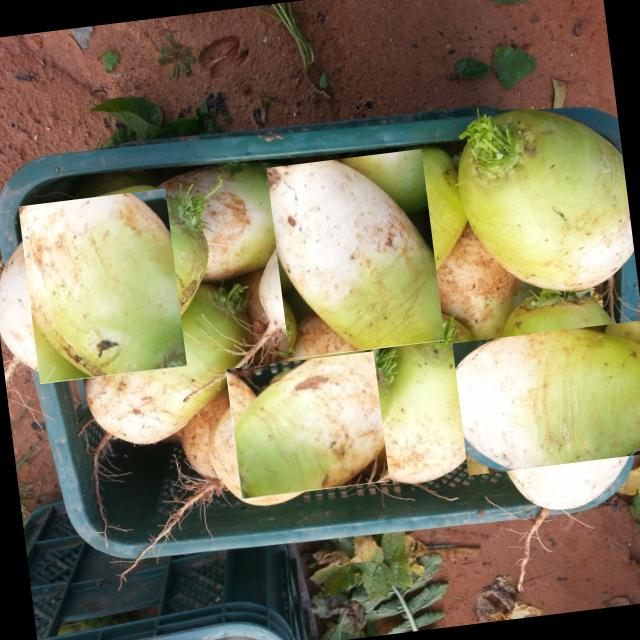radish: (258, 156, 452, 350), (12, 194, 194, 376), (466, 304, 640, 491), (225, 351, 389, 499)
